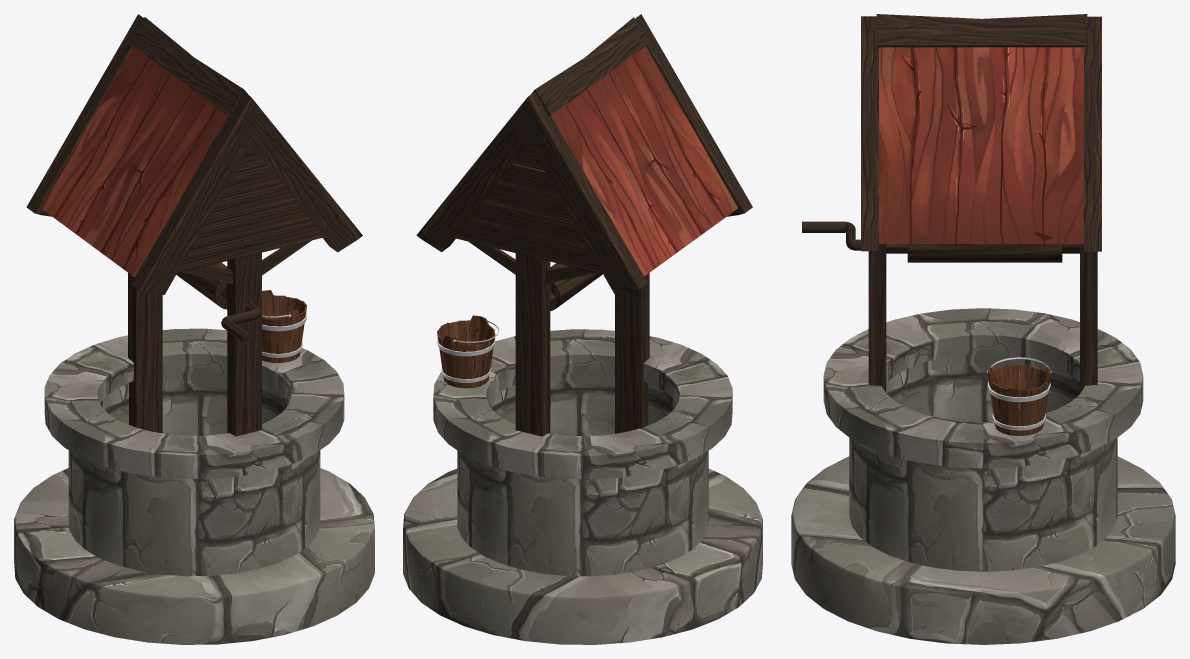
The model's file is Poço.fbx.
3 renders of one model, left to right at view 1: azimuth 30°, elevation 25°; view 2: azimuth 150°, elevation 25°; view 3: azimuth 270°, elevation 25°, orthographic. The views are drawn at different scales.
Visible parts, largest first — view 1: Cylinder.001, Cube.016, Cube.005, Balde, Cube.015; view 2: Cylinder.001, Cube.016, Cube.005, Balde, Cube.015; view 3: Cylinder.001, Cube.016, Cube.005, Cube.015, Balde.
Boxes of the visible parts, x1,y1,x2,y2 form: Cylinder.001: [14, 328, 374, 644]; Cube.016: [41, 17, 323, 436]; Cube.005: [26, 14, 362, 294]; Balde: [262, 290, 307, 362]; Cube.015: [176, 262, 261, 343]; Cylinder.001: [403, 329, 762, 644]; Cube.016: [454, 17, 737, 436]; Cube.005: [416, 14, 752, 293]; Balde: [436, 315, 499, 388]; Cube.015: [550, 263, 602, 310]; Cylinder.001: [791, 308, 1175, 644]; Cube.016: [868, 14, 1097, 393]; Cube.005: [861, 16, 1101, 251]; Cube.015: [802, 221, 1079, 262]; Balde: [987, 357, 1051, 435].
Size of the model in its own units: 424 by 669 by 424.
